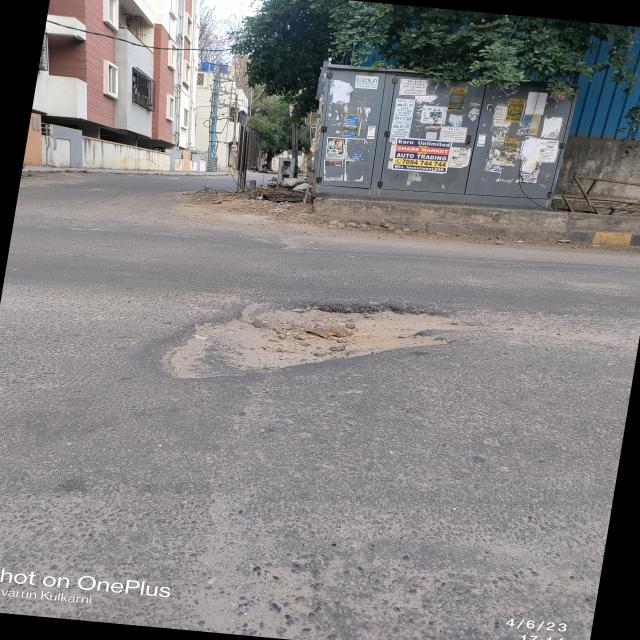potholes: (187, 298, 461, 376)
